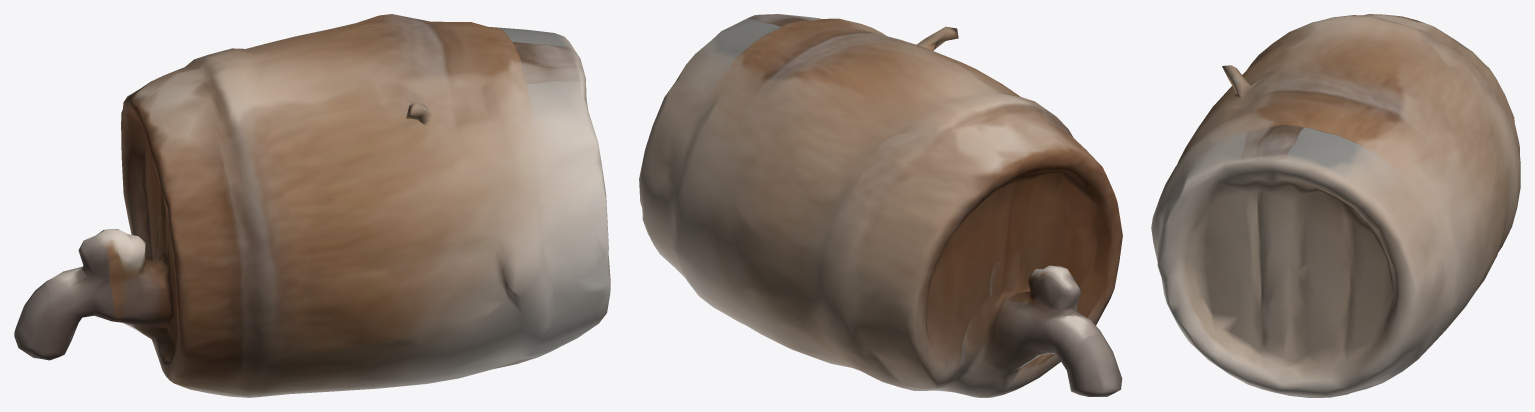
The model's file is cistern.glb.
The picture shows the model from 3 angles, left to right: view 1: azimuth 30°, elevation 25°; view 2: azimuth 150°, elevation 25°; view 3: azimuth 270°, elevation 25°; orthographic projection. The views are drawn at different scales.
Parts seen in each view (by area): view 1: tripo_node_5817c900-7c58-4fa1-b9a4-b1ffc6228f96; view 2: tripo_node_5817c900-7c58-4fa1-b9a4-b1ffc6228f96; view 3: tripo_node_5817c900-7c58-4fa1-b9a4-b1ffc6228f96.
Part boxes in pixels (x1=…): tripo_node_5817c900-7c58-4fa1-b9a4-b1ffc6228f96: x1=14, y1=14, x2=610, y2=397; tripo_node_5817c900-7c58-4fa1-b9a4-b1ffc6228f96: x1=639, y1=14, x2=1122, y2=397; tripo_node_5817c900-7c58-4fa1-b9a4-b1ffc6228f96: x1=1151, y1=14, x2=1520, y2=397.
Size of the model in its own units: 1 by 0.5948 by 0.6954.
Materials: 1 (1 with a texture image).
